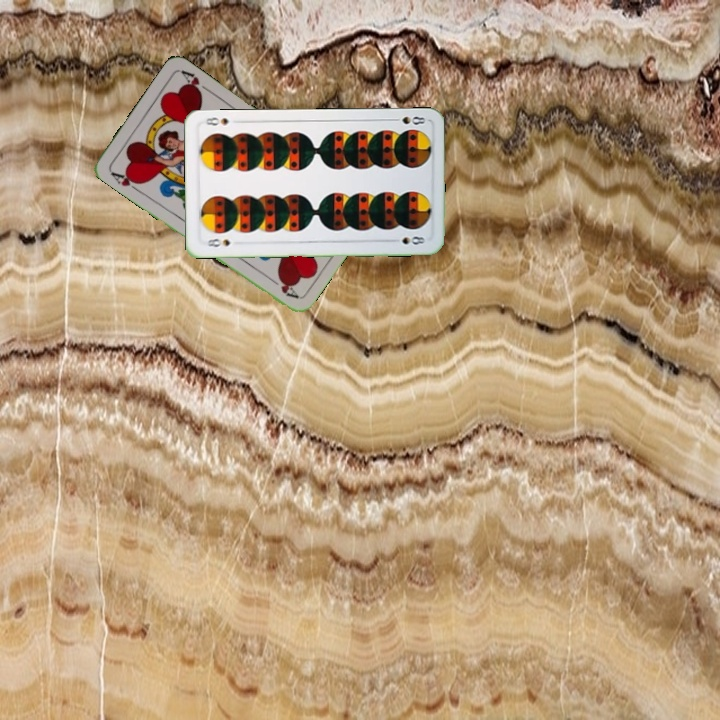HA: (107, 168, 144, 195)
S8: (387, 112, 428, 127), (203, 234, 233, 249)
